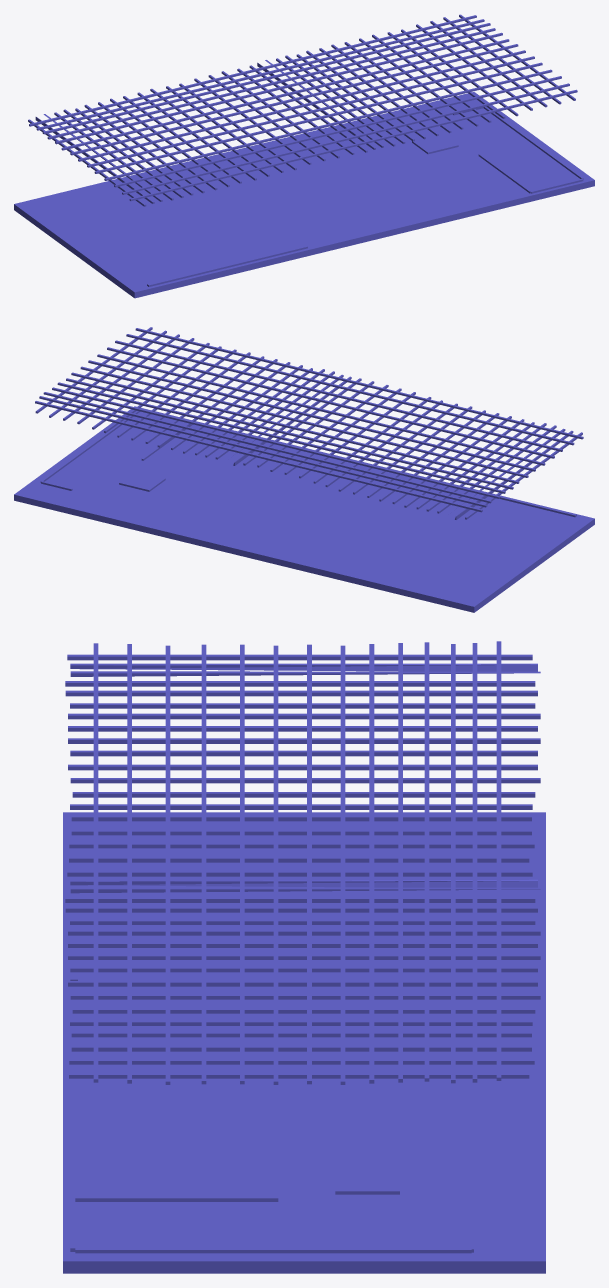
The model's file is floor and ceiling.FBX.
The picture shows the model from 3 angles, top to bottom: view 1: azimuth 30°, elevation 25°; view 2: azimuth 150°, elevation 25°; view 3: azimuth 270°, elevation 25°; orthographic projection. The views are drawn at different scales.
Parts seen in each view (by area): view 1: mesh1532681974; view 2: mesh1532681974; view 3: mesh1532681974.
Boxes of the visible parts, box(x1,y1,x2,y2) form: mesh1532681974: box(14, 14, 594, 298); mesh1532681974: box(14, 327, 594, 612); mesh1532681974: box(63, 641, 545, 1273).
Bounding box in the file's own units: 5.58 × 1.08 × 2.53.
